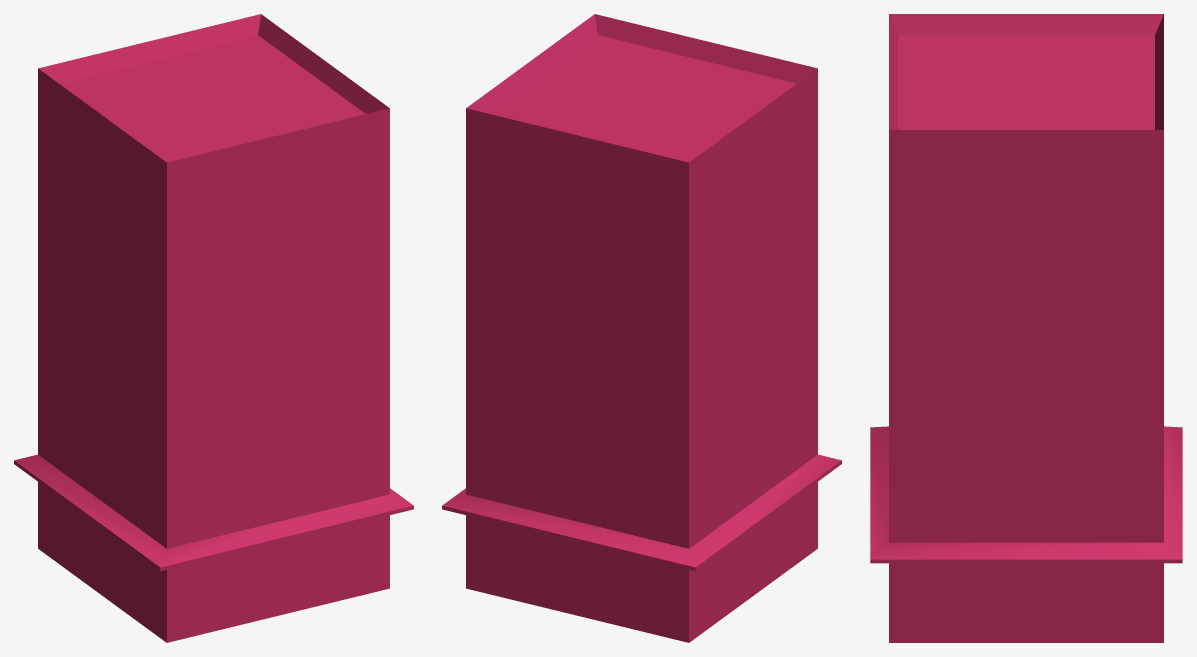
File: cube.167_lev1_lev3.glb
3 views of the same model, side by side, from view 1: azimuth 30°, elevation 25°; view 2: azimuth 150°, elevation 25°; view 3: azimuth 270°, elevation 25° (orthographic). The views are drawn at different scales.
Parts seen in each view (by area): view 1: cube.167_lev1_lev3; view 2: cube.167_lev1_lev3; view 3: cube.167_lev1_lev3.
Part boxes in pixels (<box>): cube.167_lev1_lev3: <box>14,14,413,642</box>; cube.167_lev1_lev3: <box>442,14,841,642</box>; cube.167_lev1_lev3: <box>870,14,1182,642</box>.
Bounding box in the file's own units: 4.07 × 7.36 × 4.07.
